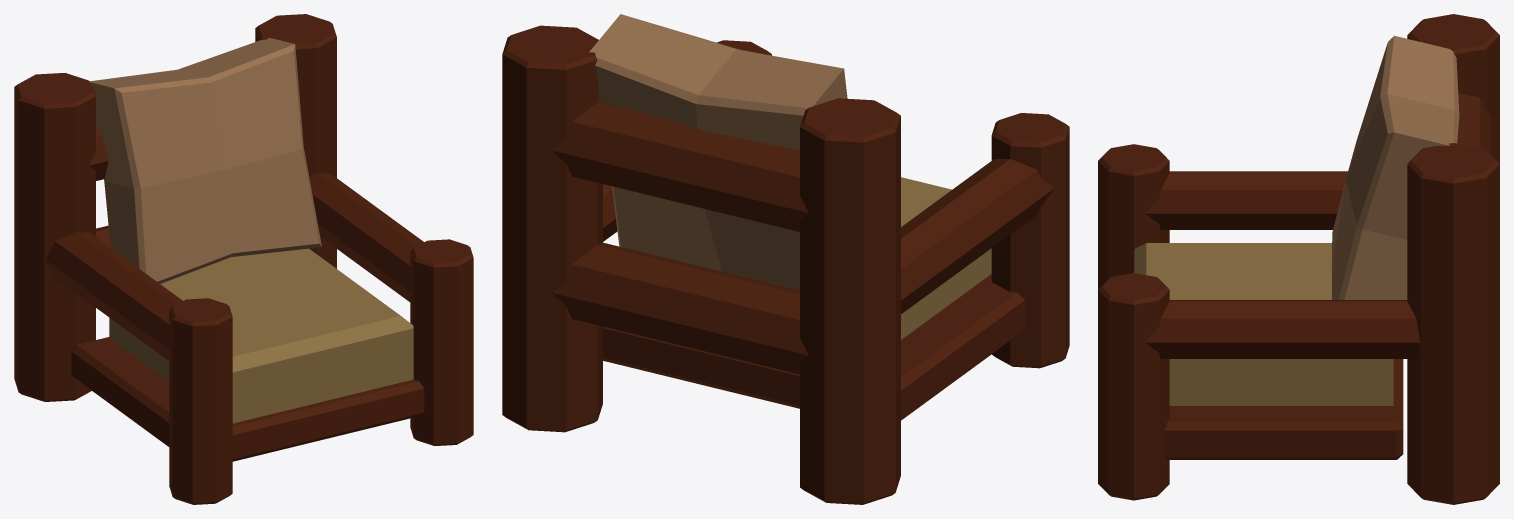
Rendered from WoodArmChair1.glb.
3 views of the same model, side by side, from view 1: azimuth 30°, elevation 25°; view 2: azimuth 150°, elevation 25°; view 3: azimuth 270°, elevation 25° (orthographic). The views are drawn at different scales.
Parts seen in each view (by area): view 1: WoodArmChair1, Pad1WoodArmChair1, Pad2WoodArmChair1; view 2: WoodArmChair1, Pad1WoodArmChair1, Pad2WoodArmChair1; view 3: WoodArmChair1, Pad2WoodArmChair1, Pad1WoodArmChair1.
Boxes of the visible parts, <box> form: WoodArmChair1: <box>14,14,473,504</box>; Pad1WoodArmChair1: <box>89,38,321,283</box>; Pad2WoodArmChair1: <box>109,248,413,423</box>; WoodArmChair1: <box>502,25,1069,504</box>; Pad1WoodArmChair1: <box>589,14,847,290</box>; Pad2WoodArmChair1: <box>901,177,991,339</box>; WoodArmChair1: <box>1098,14,1499,504</box>; Pad2WoodArmChair1: <box>1134,243,1393,405</box>; Pad1WoodArmChair1: <box>1331,35,1459,299</box>.
Size of the model in its own units: 1.17 by 1.1 by 1.18.
